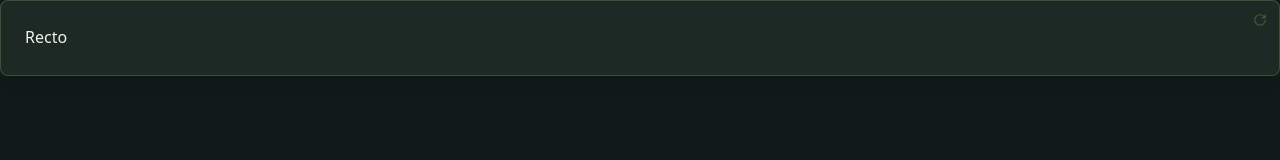
Test: RotatingCard › retourne la carte au clic et revient au second clic
The width and height of the screenshot is (1280, 160).
What coordinates should you click on to do the following:
click the button with aria-label "Ouvrir les détails de Carte"
I would click on:
 (640, 38)
Its box is [0,0,1279,76].
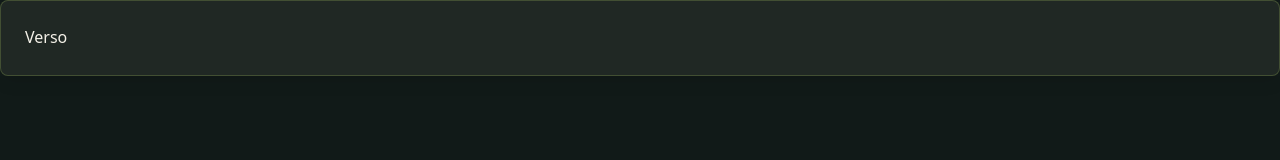
Check: the text "Verso" is shown, box [25,26,67,48]
Check: the button named "Ouvrir les détails de Carte" is expanded
What coordinates should you click on to do the following:
click the button named "Ouvrir les détails de Carte"
I would click on:
 (640, 38)
Its box is [0,0,1279,76].
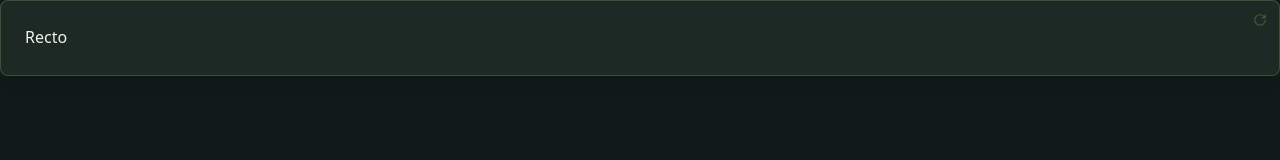
Check: the text "Recto" is shown, box [25,26,67,48]
Check: the button with aria-label "Ouvrir les détails de Carte" is collapsed, box [0,0,1279,76]
